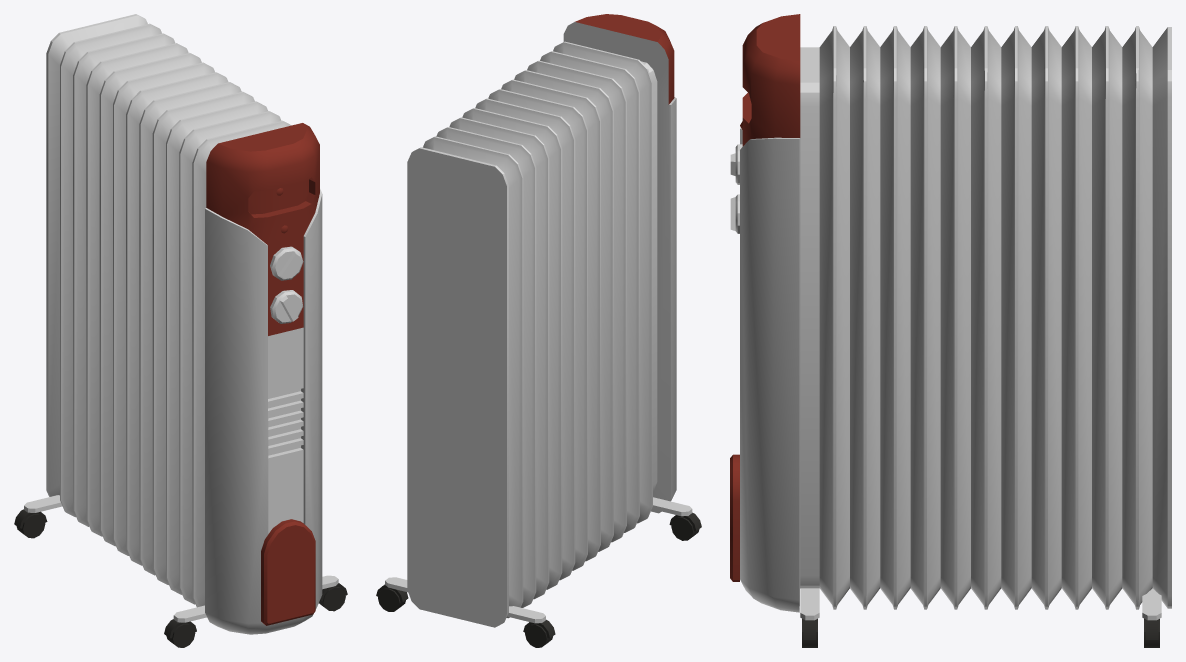
Rendered from GLNDYT16.FBX.
The picture shows the model from 3 angles, left to right: view 1: azimuth 30°, elevation 25°; view 2: azimuth 150°, elevation 25°; view 3: azimuth 270°, elevation 25°; orthographic projection. The views are drawn at different scales.
Visible parts, largest first — view 1: GLNDYT16; view 2: GLNDYT16; view 3: GLNDYT16.
Part boxes in pixels (x1,y1,x2,y2): GLNDYT16: (14,14,347,647); GLNDYT16: (376,14,701,647); GLNDYT16: (730,14,1171,647).
Bounding box in the file's own units: 25.51 × 48 × 68.01.
